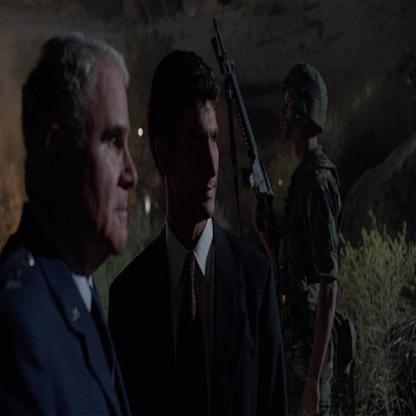Guns: (210, 16, 284, 260)
